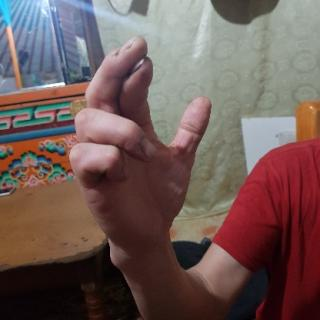DHELL: (69, 30, 220, 268)
